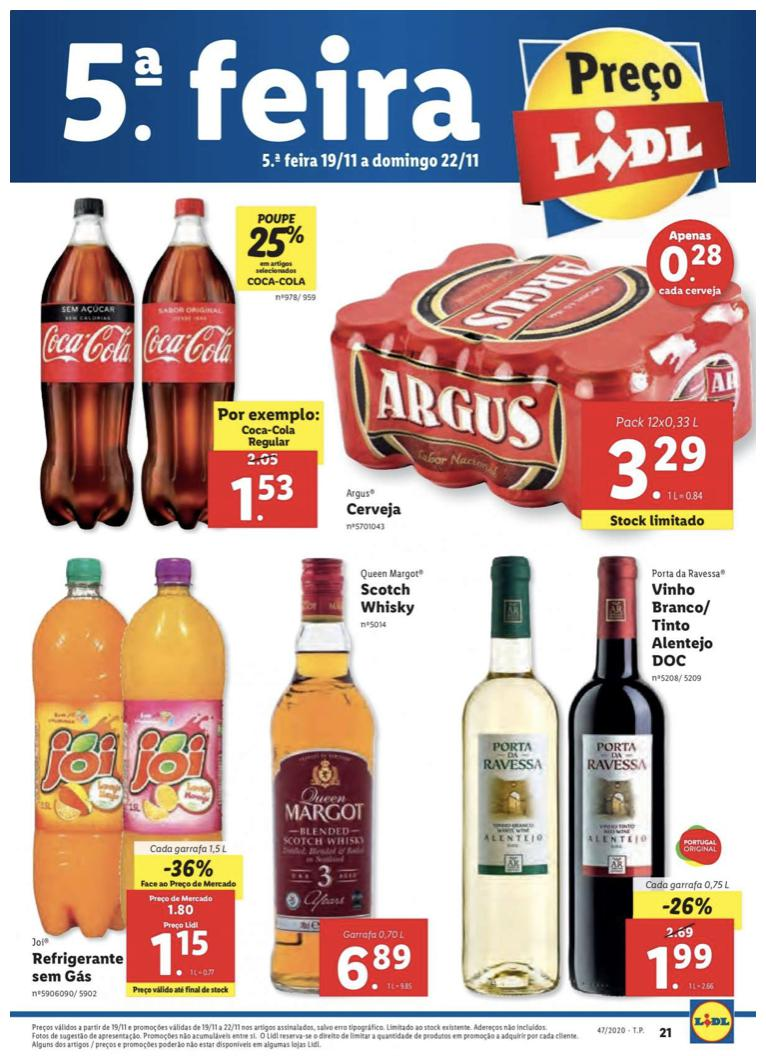name: (642, 579, 721, 673), (25, 949, 123, 984), (358, 580, 421, 619), (342, 498, 406, 523)
price: (597, 428, 720, 512), (129, 911, 234, 987), (642, 938, 720, 998), (338, 940, 423, 995), (227, 470, 304, 525)
product: (329, 211, 745, 536), (458, 550, 743, 1000), (2, 540, 248, 1004), (20, 183, 325, 553), (248, 561, 447, 1004)
promotion: (246, 223, 306, 263), (158, 854, 217, 883), (659, 891, 718, 920)
